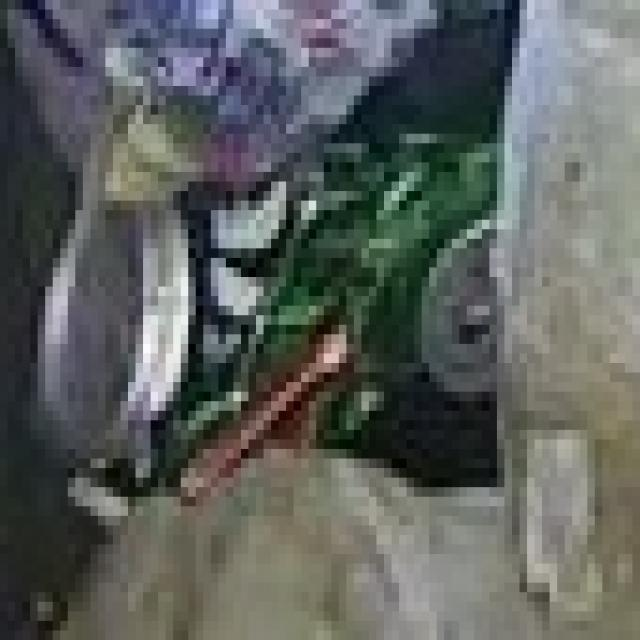litter: (17, 113, 536, 532)
